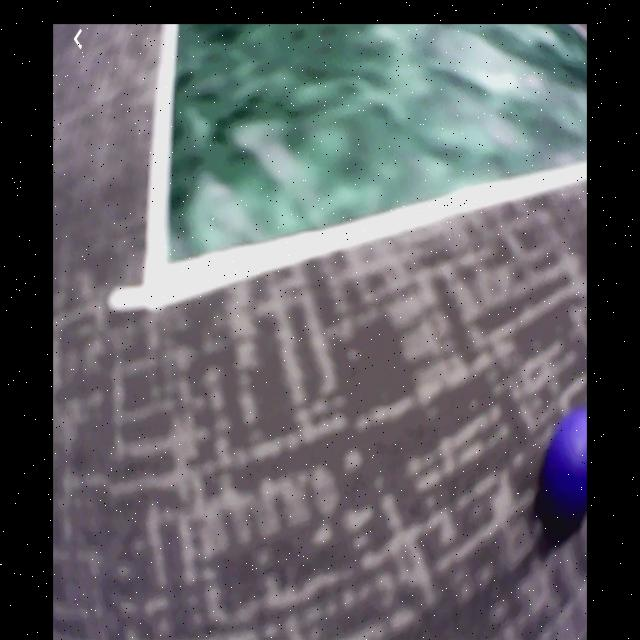ball: (540, 408, 587, 529)
